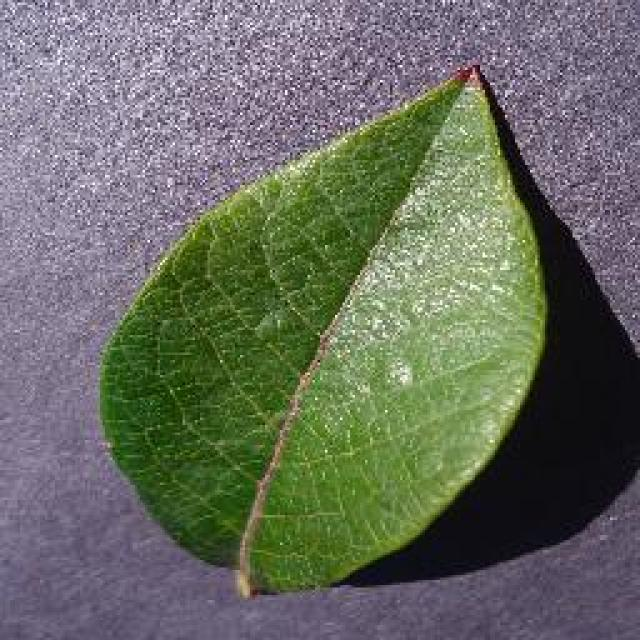Blu_healthy: (150, 181, 541, 515)
